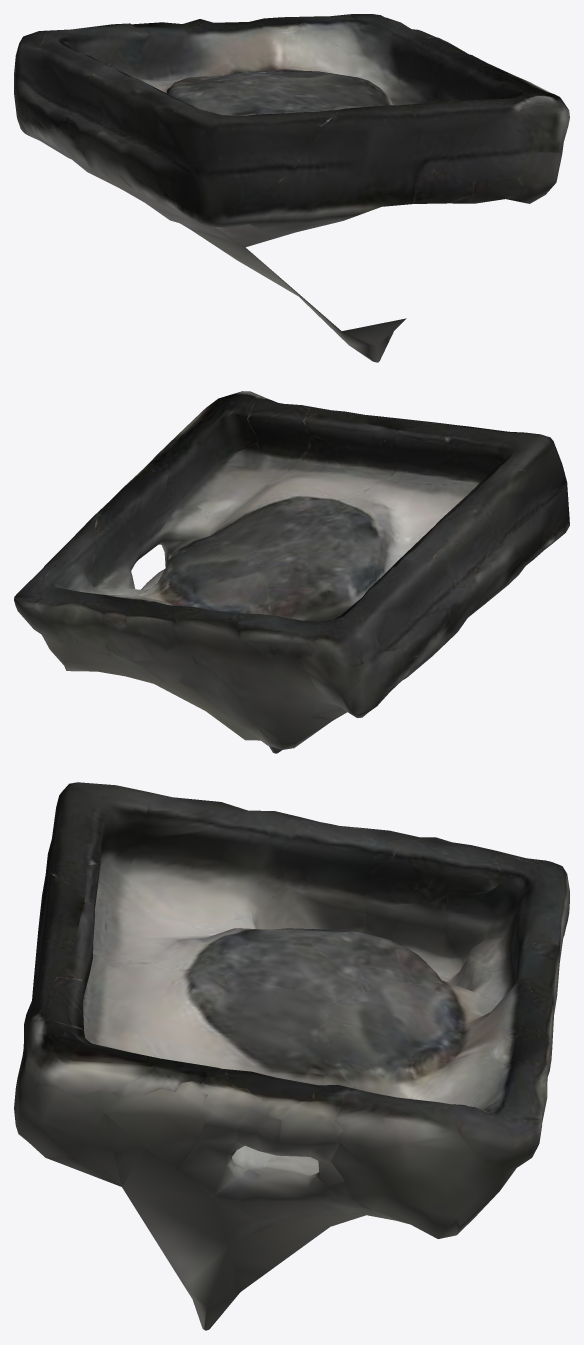
The model's file is hall.glb.
3 views of the same model, one above another, from view 1: azimuth 30°, elevation 25°; view 2: azimuth 150°, elevation 25°; view 3: azimuth 270°, elevation 25° (orthographic). The views are drawn at different scales.
Bounding box in the file's own units: 0.7206 × 0.5975 × 0.7266.
1 material, 1 textured.
